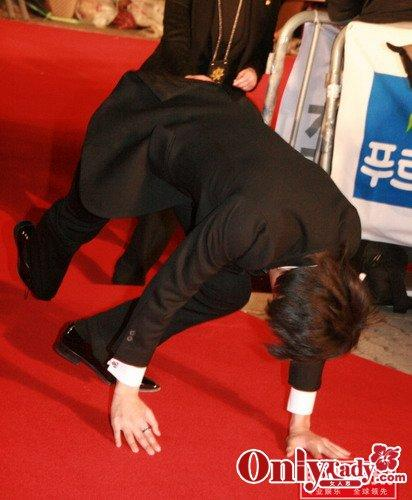fall: (26, 9, 379, 481)
